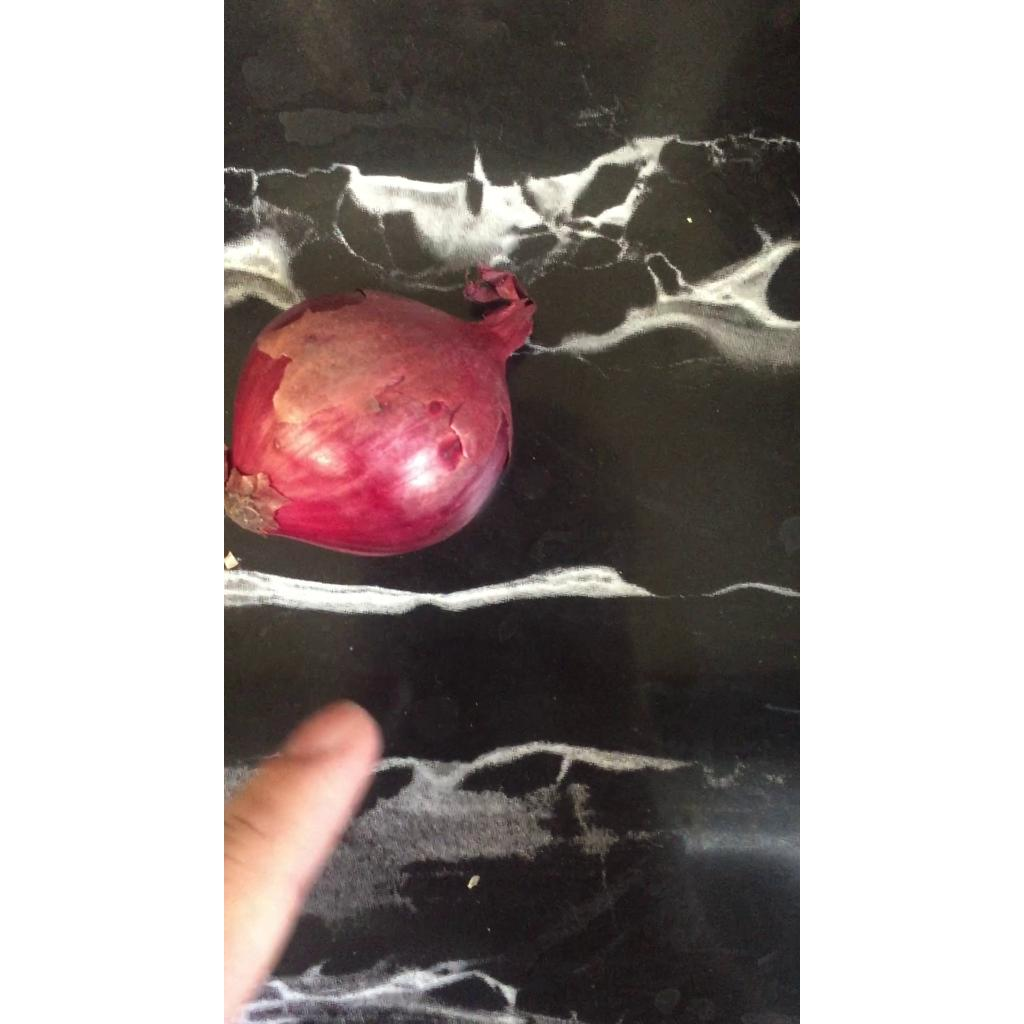Onion: (225, 264, 534, 555)
